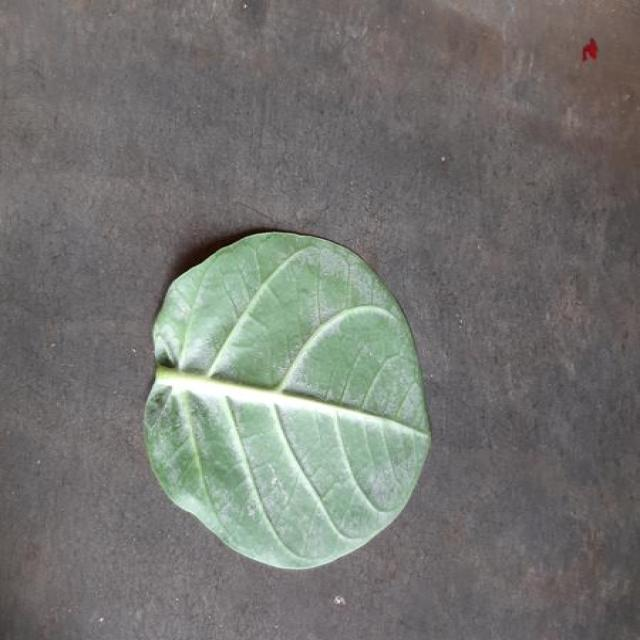ekka: (145, 232, 430, 569)
